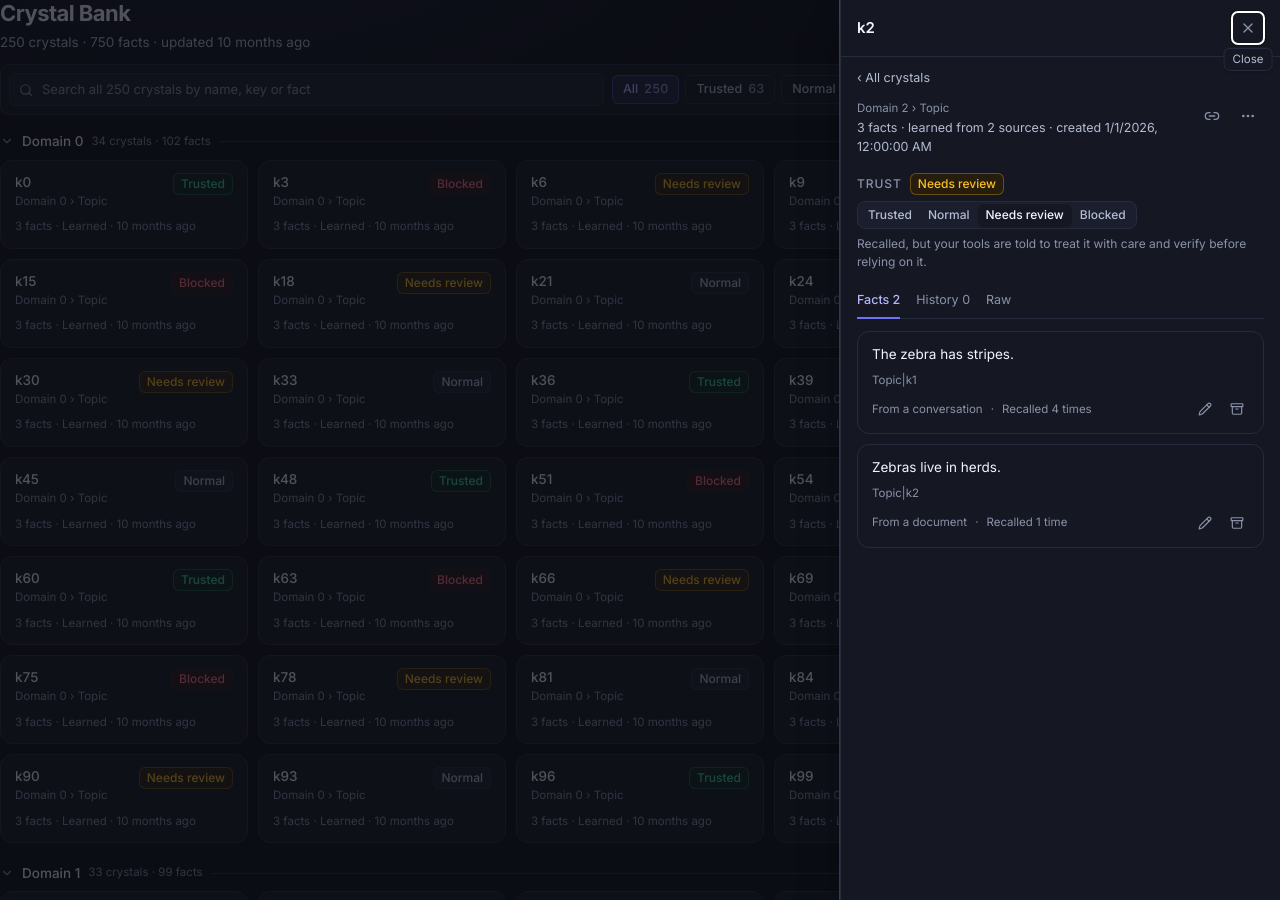
Scenario: Crystal Bank (Refine PR 4) › deletes from the overflow menu through ConfirmInline and reports a failure in a banner
The width and height of the screenshot is (1280, 900).
Expected: the text "The zebra has stripes." is shown, [872,346,1014,362]
Click the button named "More" at (1248, 116), box [1232,100,1264,132]
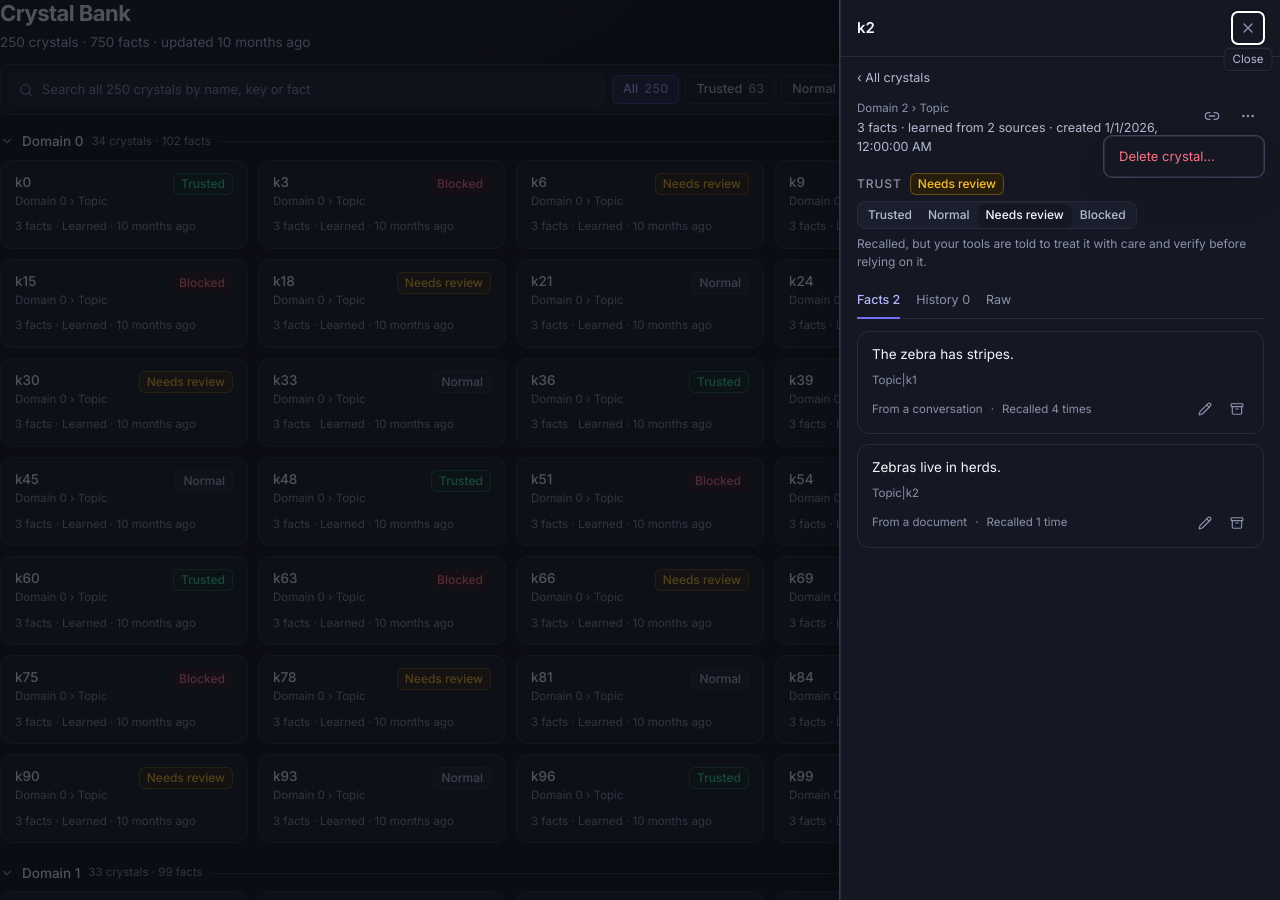
Click the menu item "Delete crystal…" at (1184, 157), box [1109,141,1259,172]
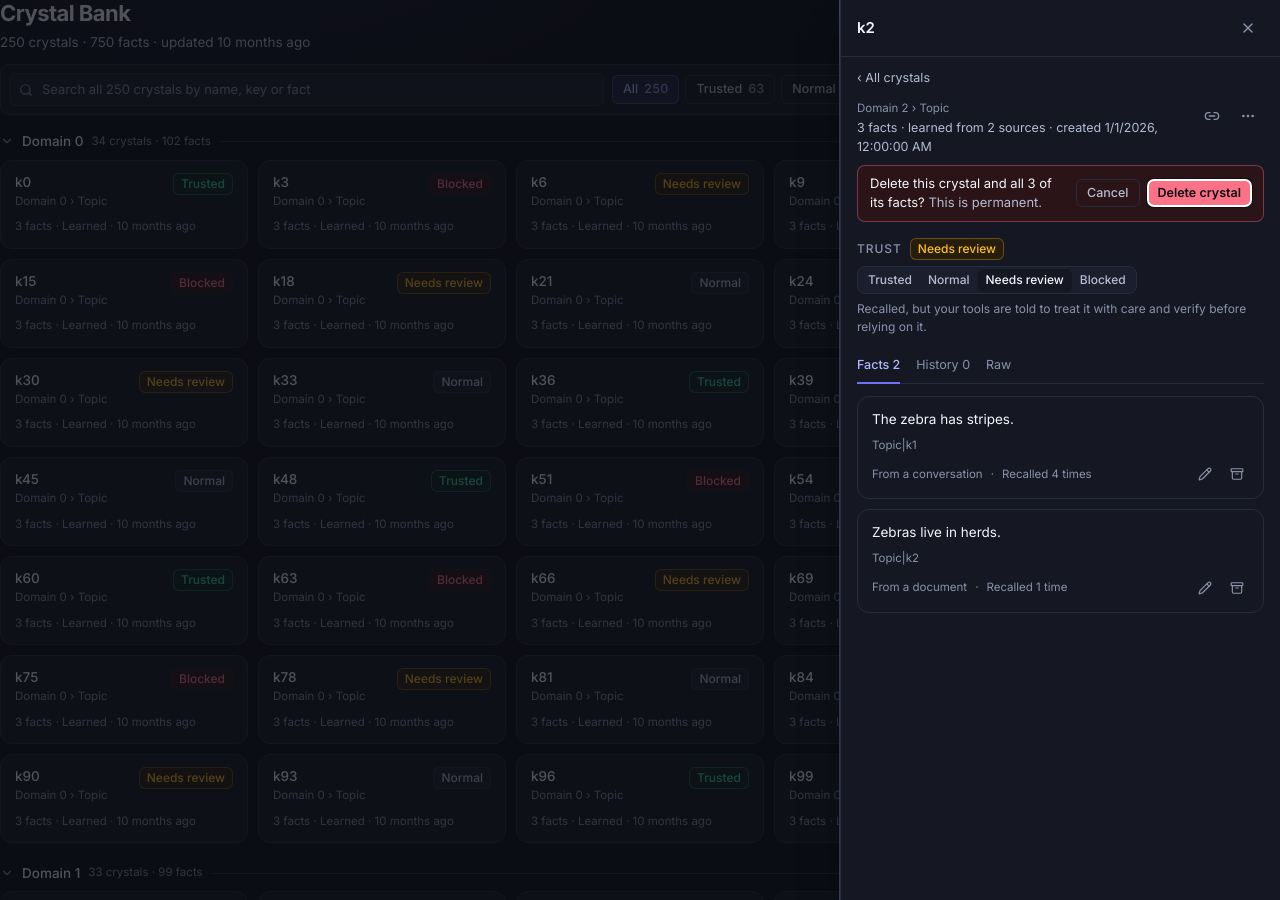
Click the button "Delete crystal" at (1199, 193), box [1148,180,1251,206]
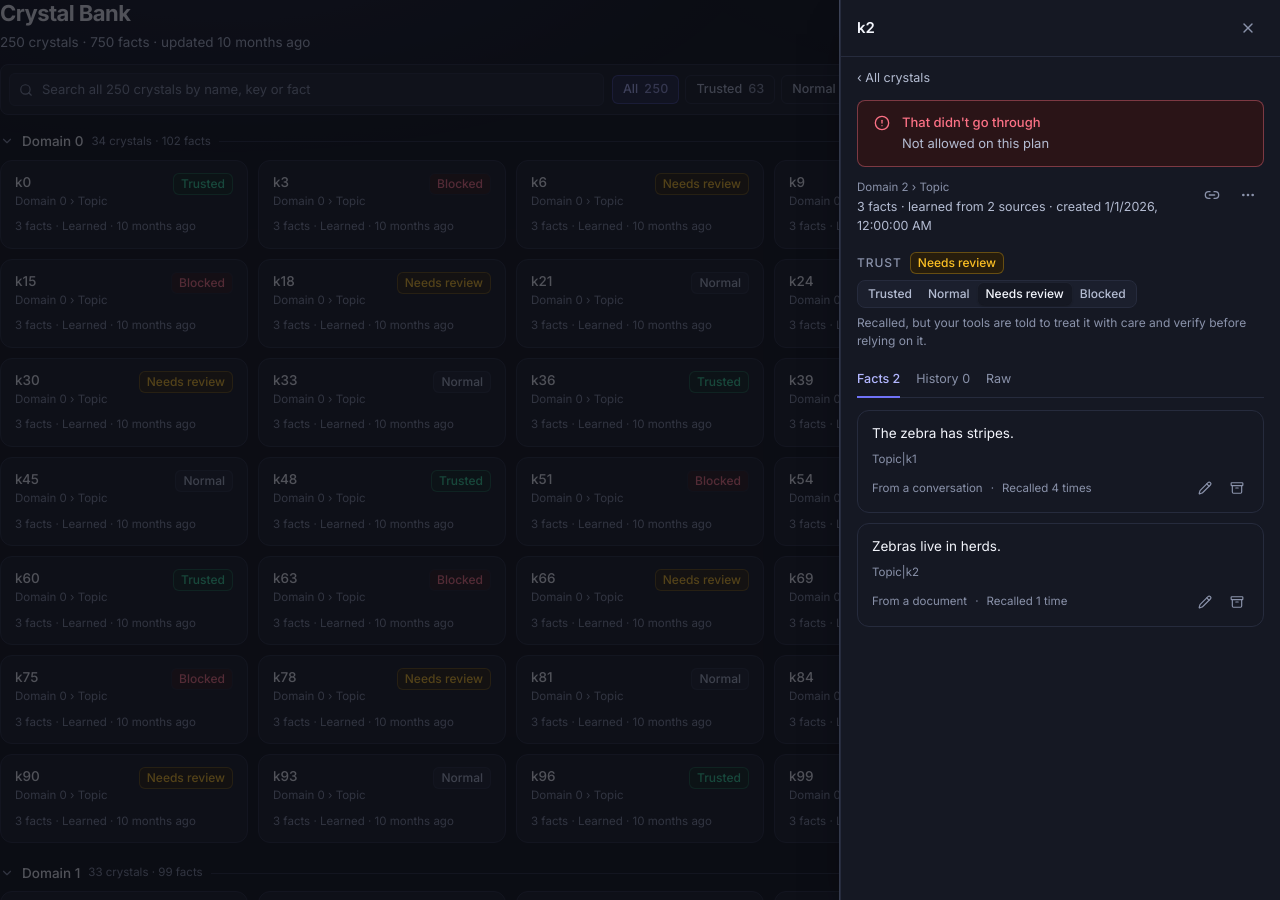
Now the text "Not allowed on this plan" is shown, box [902,135,1049,151]
Note: Second try succeeds and closes the drawer.
Click the button named "More" at (1248, 195), box [1232,179,1264,211]
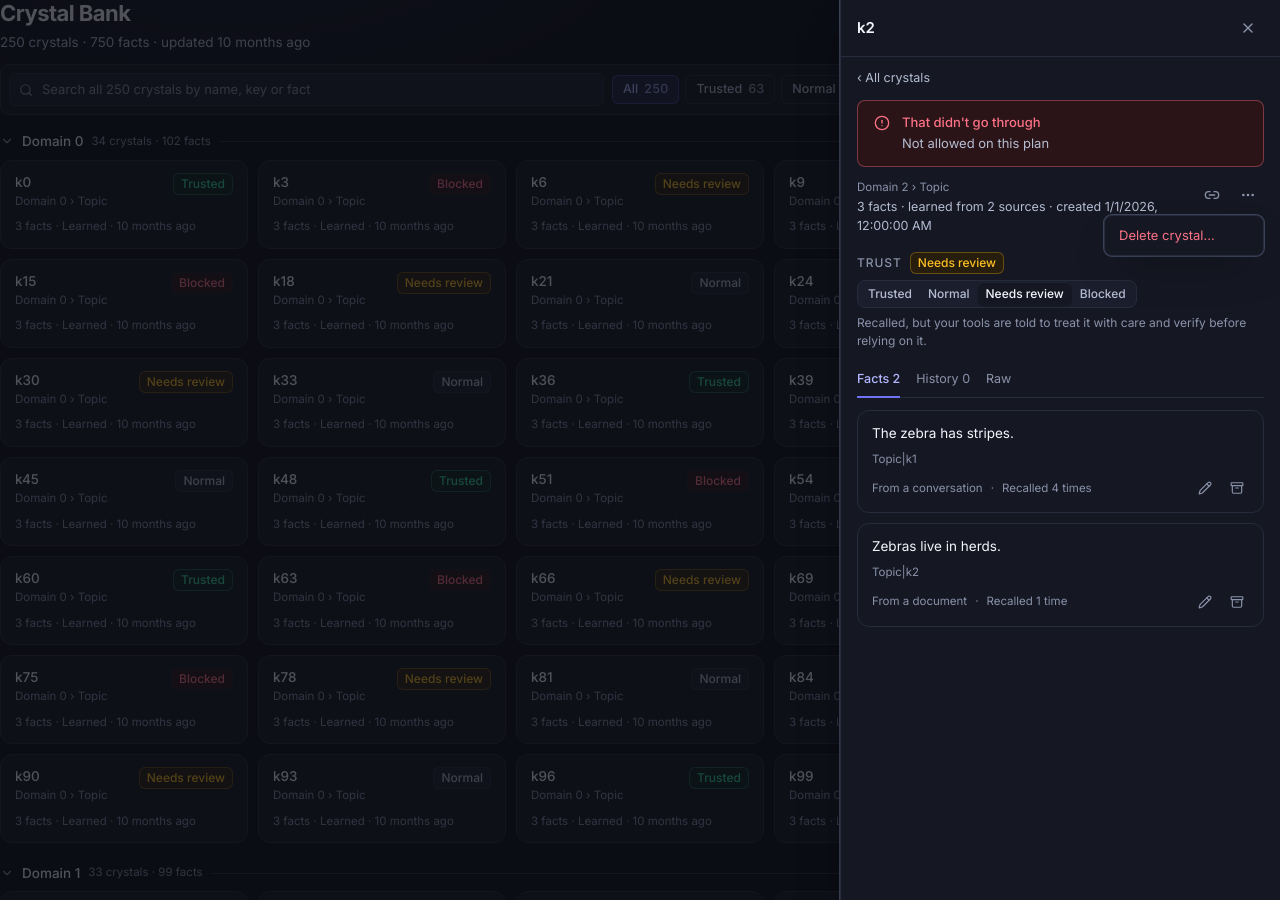
Click the menu item "Delete crystal…" at (1184, 236), box [1109,220,1259,251]
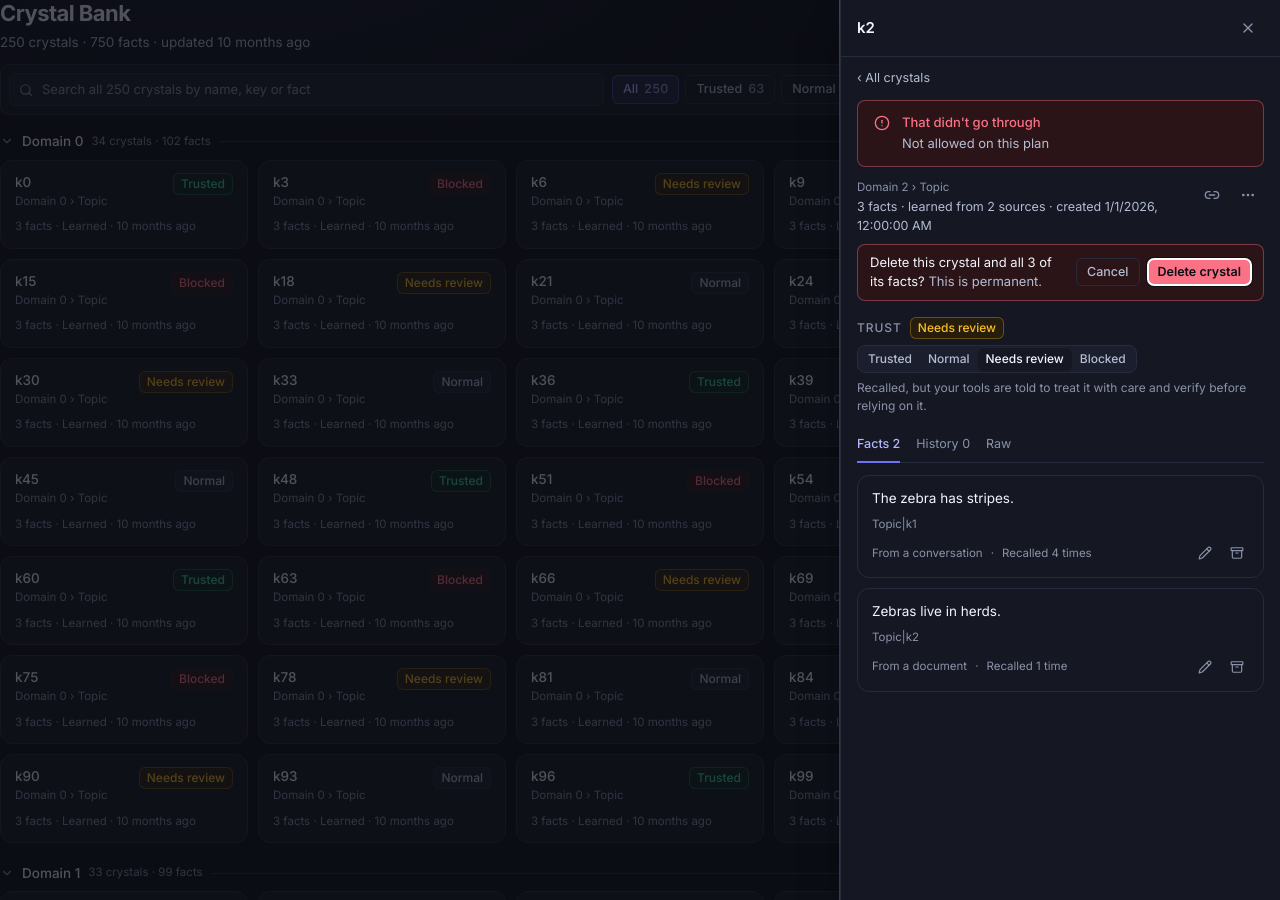
Click the button "Delete crystal" at (1199, 272), box [1148,259,1251,285]
(page scrolled)
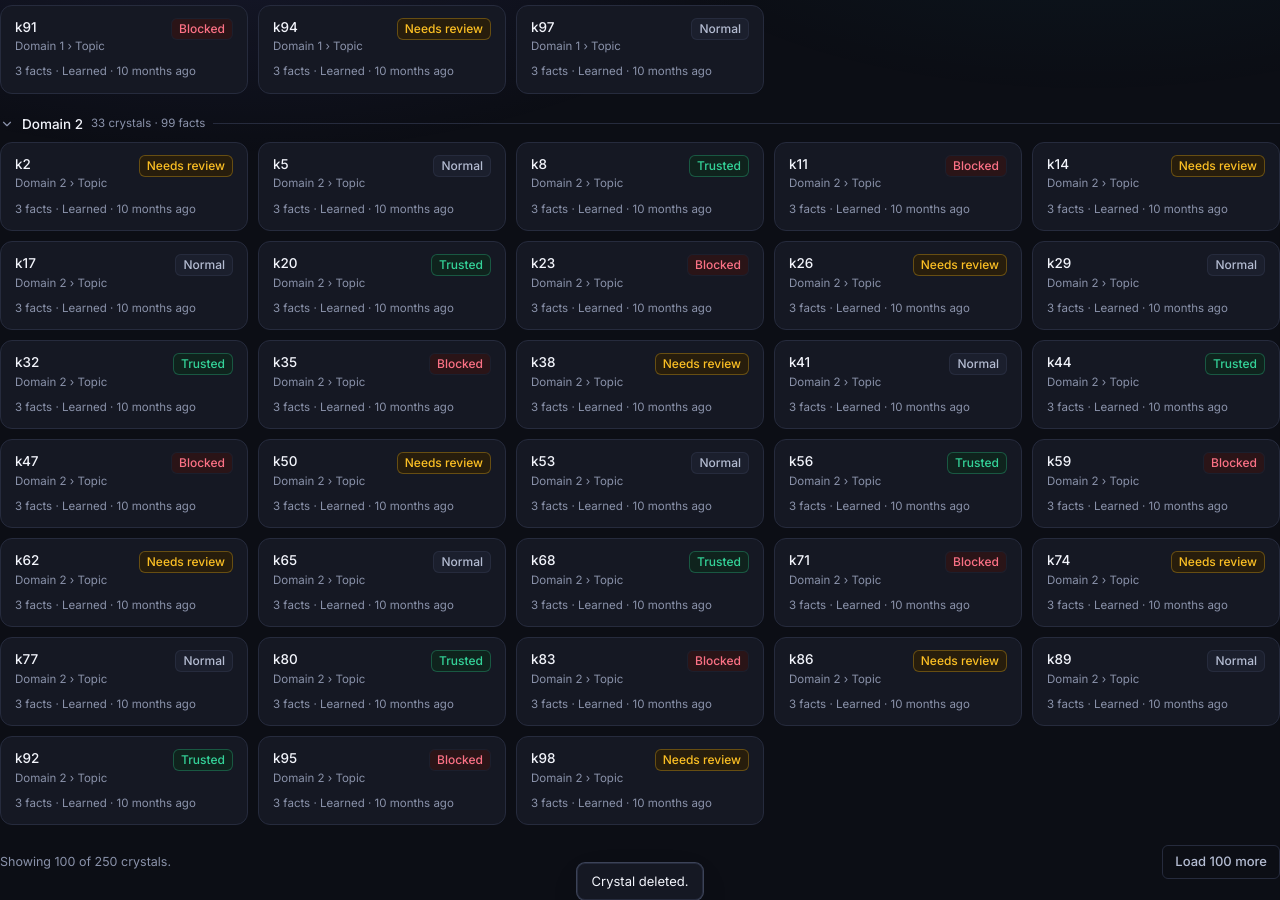
Now the dialog is gone
Now the text "Crystal deleted." is shown, box [592,872,688,891]
